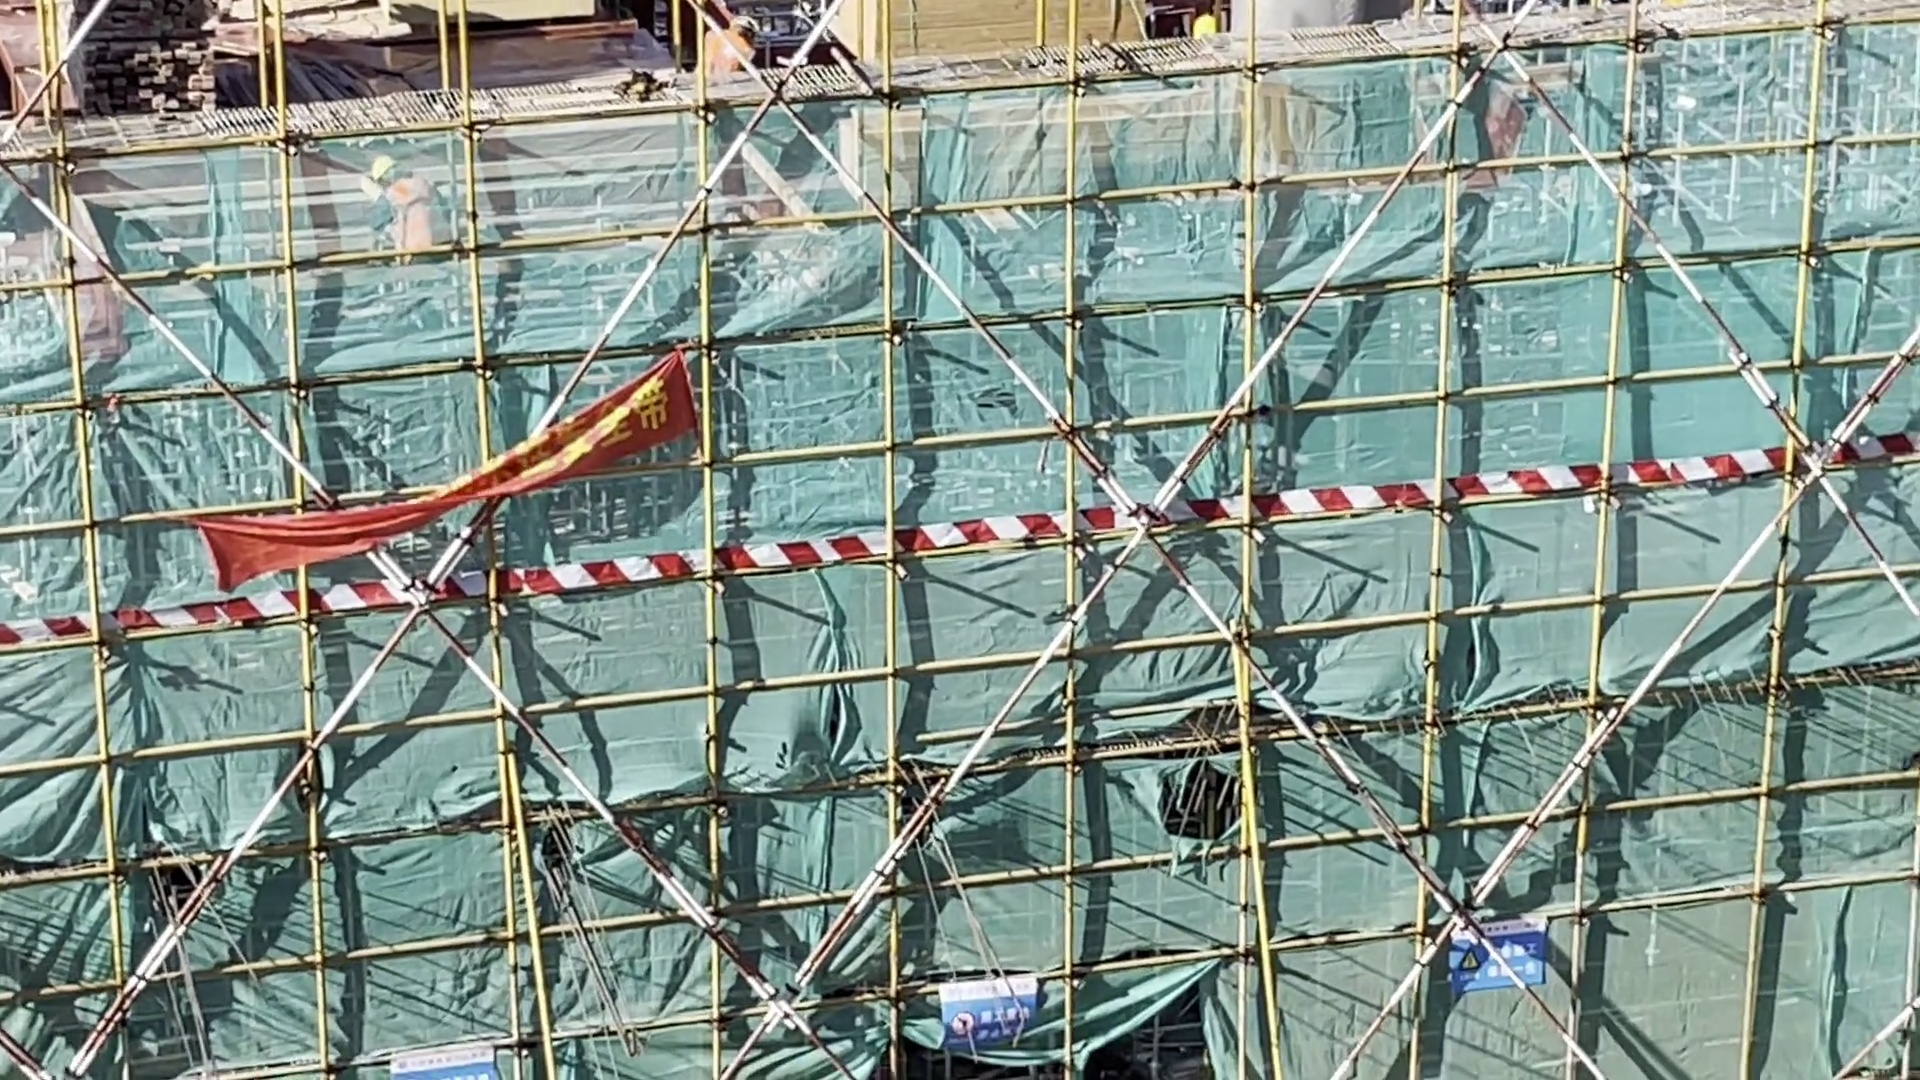helmet: (365, 153, 400, 175), (736, 12, 761, 41), (1189, 15, 1219, 36)
person: (363, 149, 464, 300), (686, 12, 764, 108)
slogan: (227, 393, 710, 568), (937, 974, 1040, 1043), (1448, 930, 1543, 991), (396, 1043, 500, 1080)
vest: (377, 179, 443, 245), (701, 36, 751, 81)
wood: (853, 101, 1285, 183), (823, 3, 1175, 45), (79, 55, 231, 108), (64, 1, 217, 51)
